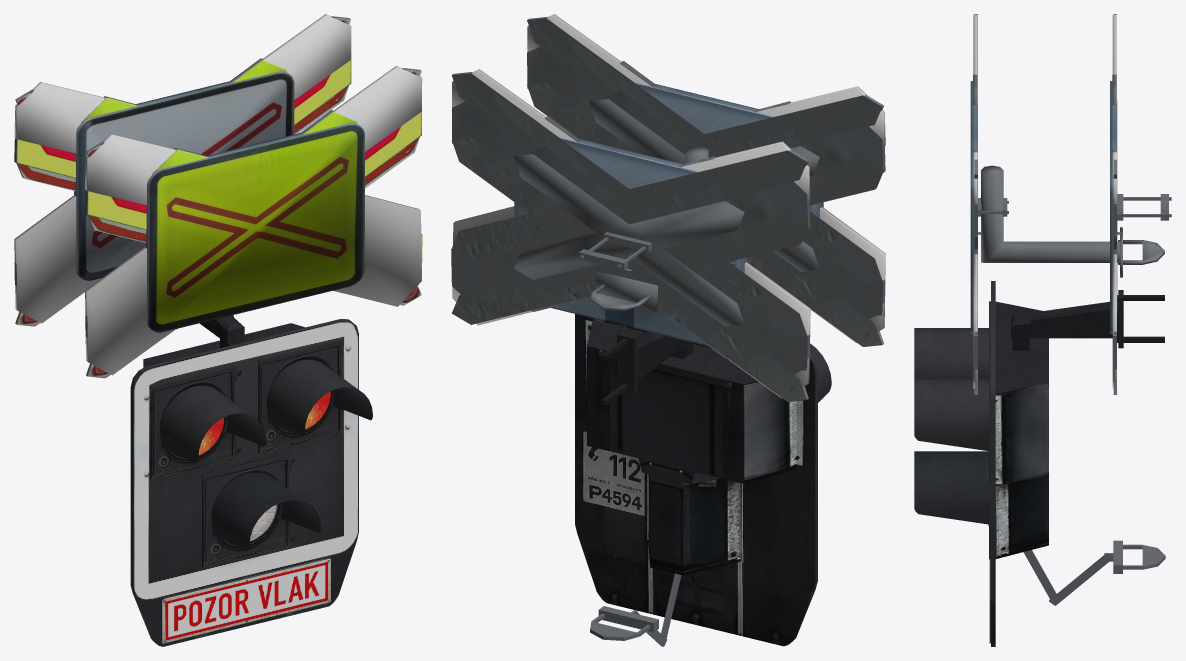
File: azd97_vyst_zav.obj
The picture shows the model from 3 angles, left to right: view 1: azimuth 30°, elevation 25°; view 2: azimuth 150°, elevation 25°; view 3: azimuth 270°, elevation 25°; orthographic projection. The views are drawn at different scales.
Visible parts, largest first — view 1: vystraznik, kriz_sk_refl, kriz_xk_refl_velky, kriz_sk_stozar, kriz_xk_refl_stozar_velky, stinidlo_poz, kriz_1k_refl_velky, kriz_1k_refl_stozar_velky, kriz_xk_front_velky, kriz_xk_front_stozar_velky, kriz_xk_refl_maly, kriz_xk_refl_stozar_maly (+1 smaller); view 2: vystraznik, kriz_xk_back_stozar_velky, kriz_xk_back_velky, kriz_1k_back_stozar_maly, kriz_1k_refl_stozar_maly, kriz_1k_refl_stozar_velky, kriz_1k_refl_velky, kriz_sk_stozar, kriz_xk_refl_stozar_velky, kriz_xk_refl_velky, kriz_1k_refl_maly, kriz_1k_back_maly (+5 smaller); view 3: vystraznik, nosnik, stinidlo_poz, vystraznik_drzak_horni, vystraznik_drzak_spodni, kriz_sk_refl, kriz_xk_refl_velky, kriz_xk_refl_stozar_velky, kriz_sk_stozar, kriz_drzak_stozar, kriz_xk_back_velky.
Part boxes in pixels (x1,y1,x2,y2): vystraznik: (130, 319, 372, 646); kriz_sk_refl: (144, 123, 364, 332); kriz_xk_refl_velky: (85, 66, 422, 375); kriz_sk_stozar: (74, 71, 294, 280); kriz_xk_refl_stozar_velky: (14, 14, 351, 323); stinidlo_poz: (211, 472, 320, 550); kriz_1k_refl_velky: (85, 111, 422, 344); kriz_1k_refl_stozar_velky: (14, 60, 351, 292); kriz_xk_front_velky: (88, 69, 421, 378); kriz_xk_front_stozar_velky: (17, 17, 350, 326); kriz_xk_refl_maly: (152, 110, 357, 329); kriz_xk_refl_stozar_maly: (81, 58, 286, 122); vystraznik: (575, 314, 831, 646); kriz_xk_back_stozar_velky: (451, 72, 808, 401); kriz_xk_back_velky: (527, 17, 883, 346); kriz_1k_back_stozar_maly: (514, 154, 744, 326); kriz_1k_refl_stozar_maly: (521, 145, 739, 334); kriz_1k_refl_stozar_velky: (451, 101, 810, 374); kriz_1k_refl_velky: (527, 46, 885, 319); kriz_sk_stozar: (514, 137, 748, 346); kriz_xk_refl_stozar_velky: (452, 69, 810, 398); kriz_xk_refl_velky: (527, 14, 885, 343); kriz_1k_refl_maly: (596, 90, 814, 279); kriz_1k_back_maly: (589, 99, 819, 271); vystraznik: (914, 281, 1048, 646); nosnik: (981, 165, 1164, 277); stinidlo_poz: (914, 451, 988, 524); vystraznik_drzak_horni: (1011, 290, 1164, 350); vystraznik_drzak_spodni: (1023, 540, 1165, 605); kriz_sk_refl: (970, 81, 977, 333); kriz_xk_refl_velky: (973, 14, 977, 388); kriz_xk_refl_stozar_velky: (1112, 14, 1116, 388); kriz_sk_stozar: (1110, 81, 1116, 333); kriz_drzak_stozar: (1117, 194, 1171, 220); kriz_xk_back_velky: (974, 14, 981, 394).
Size of the model in its own units: 0.6555 by 0.9937 by 0.4426.
